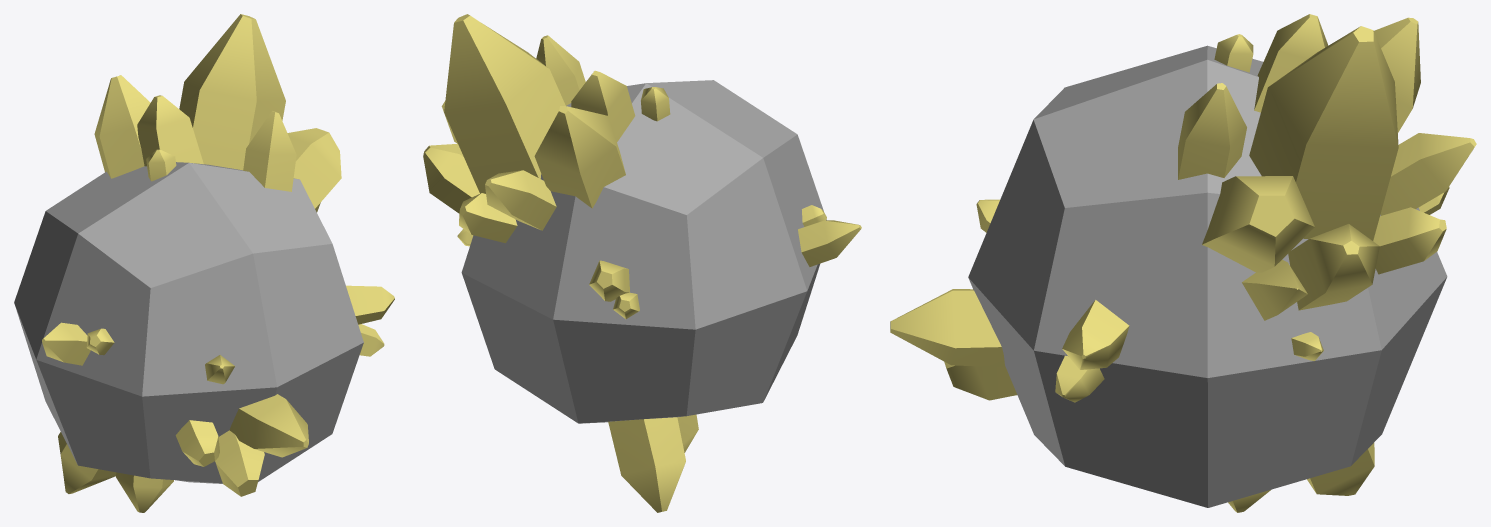
Rendered from crystal_stone04.fbx.
3 views of the same model, side by side, from view 1: azimuth 30°, elevation 25°; view 2: azimuth 150°, elevation 25°; view 3: azimuth 270°, elevation 25° (orthographic). The views are drawn at different scales.
Visible parts, largest first — view 1: Cube3, pCube95, pCube97, pCube22, pCube13, pCube93, pCube94, pCube23, pCube24, pCube74, pCube9, pCube20 (+5 smaller); view 2: Cube3, pCube95, pCube97, pCube20, pCube96, pCube5, pCube13, pCube74, pCube98, pCube93, pCube76, pCube71 (+2 smaller); view 3: Cube3, pCube95, pCube94, pCube22, pCube5, pCube93, pCube96, pCube98, pCube9, pCube97, pCube13, pCube11 (+5 smaller).
Boxes of the visible parts, x1,y1,x2,y2 form: Cube3: (14,162,363,483); pCube95: (179,14,285,170); pCube97: (94,75,150,178); pCube22: (229,394,308,457); pCube13: (137,95,203,166); pCube93: (243,111,296,191); pCube94: (287,128,341,208); pCube23: (215,430,264,496); pCube24: (175,420,219,466); pCube74: (42,322,90,365); pCube9: (346,285,394,324); pCube20: (58,432,116,493); Cube3: (461,80,826,423); pCube95: (444,14,565,193); pCube97: (534,106,625,208); pCube20: (608,417,685,512); pCube96: (485,170,556,230); pCube5: (423,143,479,213); pCube13: (571,70,635,141); pCube74: (798,220,861,266); pCube98: (459,193,517,243); pCube93: (536,35,585,105); pCube76: (589,260,629,301); pCube71: (641,87,670,121); Cube3: (968,45,1447,507); pCube95: (1249,26,1398,240); pCube94: (1202,176,1314,272); pCube22: (890,289,1005,367); pCube5: (1288,224,1379,310); pCube93: (1178,83,1246,179); pCube96: (1380,133,1476,215); pCube98: (1373,207,1446,274); pCube9: (1062,300,1129,369); pCube97: (1374,17,1420,132); pCube13: (1254,14,1328,112); pCube11: (1242,259,1307,320).
Bounding box in the file's own units: 2.62 × 3.11 × 2.82.
